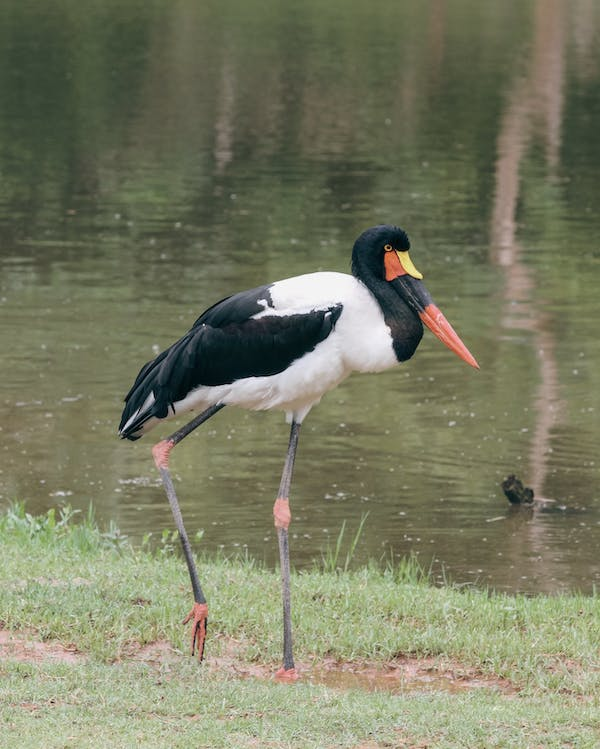Walking: (83, 197, 493, 713)
